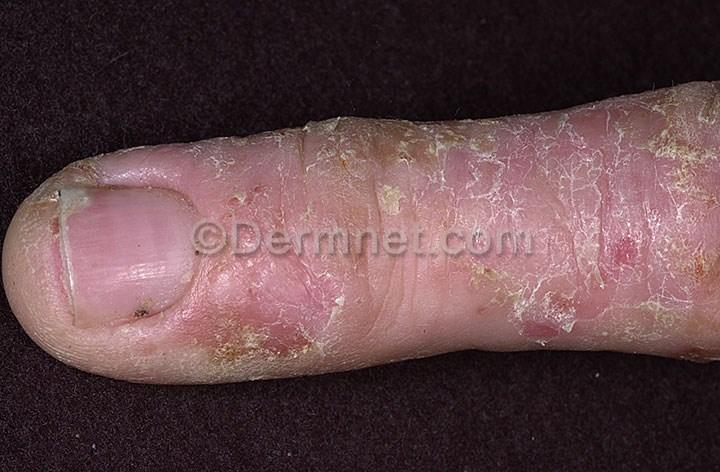Eczema: (606, 99, 677, 244), (529, 112, 601, 254), (455, 233, 531, 349), (604, 244, 680, 357), (457, 118, 528, 238), (525, 250, 608, 345), (674, 88, 720, 238), (236, 297, 323, 372), (376, 278, 454, 357), (314, 124, 400, 194), (401, 124, 471, 209), (338, 168, 424, 229), (678, 243, 720, 363), (278, 204, 355, 263), (111, 328, 189, 386), (196, 253, 271, 313), (249, 136, 317, 202), (184, 312, 241, 382), (332, 257, 402, 309), (271, 240, 348, 286), (322, 305, 381, 360), (209, 217, 285, 257), (192, 176, 262, 218), (407, 225, 460, 273), (21, 295, 74, 338), (103, 142, 156, 183), (188, 141, 246, 178), (12, 259, 64, 296), (129, 152, 186, 185), (63, 337, 114, 367), (15, 223, 55, 257), (24, 192, 55, 222), (40, 164, 68, 195), (79, 159, 107, 177)
